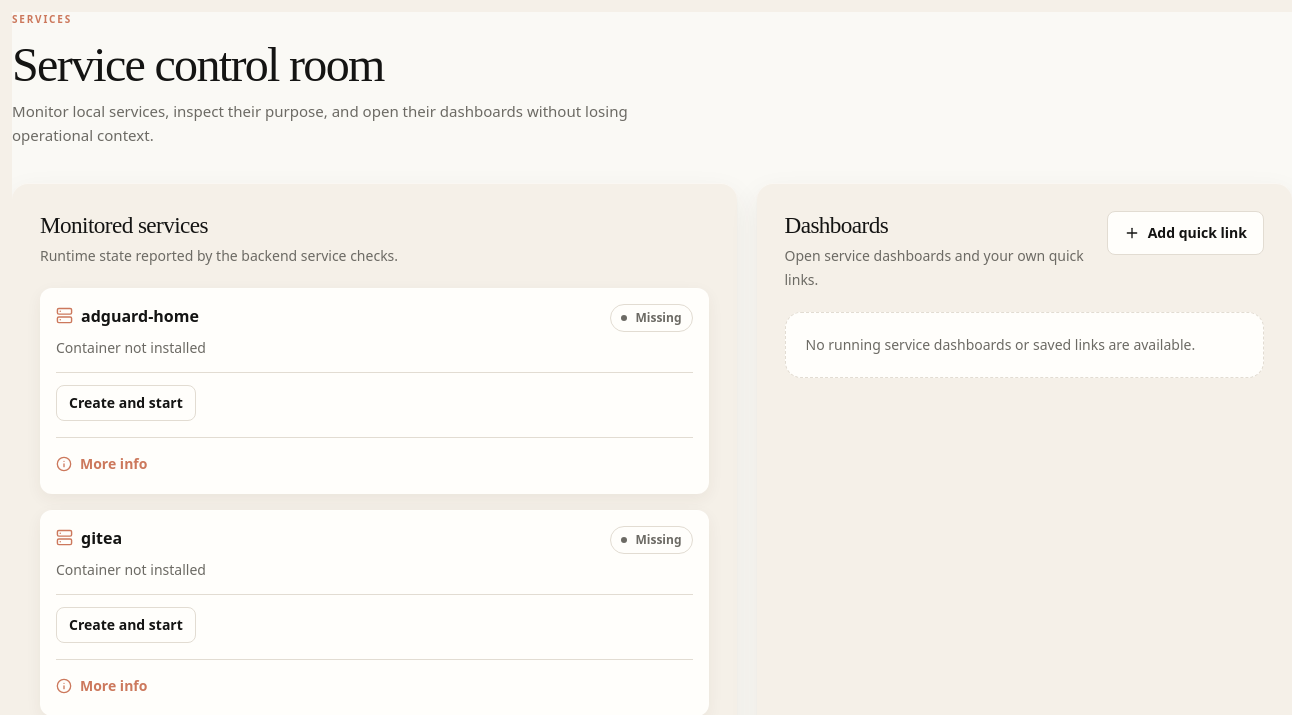
Test: Services page recovery › reuses the same operation ID after a lost submission response
Click the button "Create and start" below "adguard-home" at point(126, 403), box [56,385,196,421]
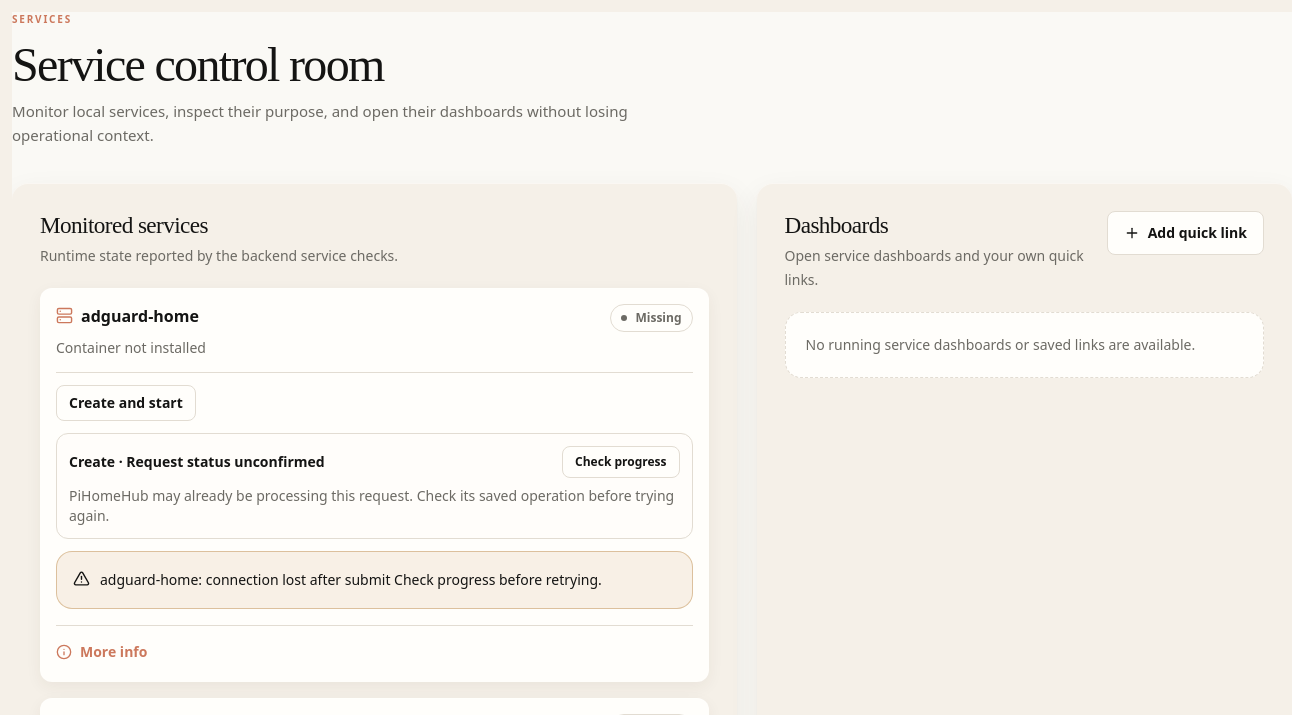
Click the button "Check progress" at point(621, 462), box [562,446,680,478]
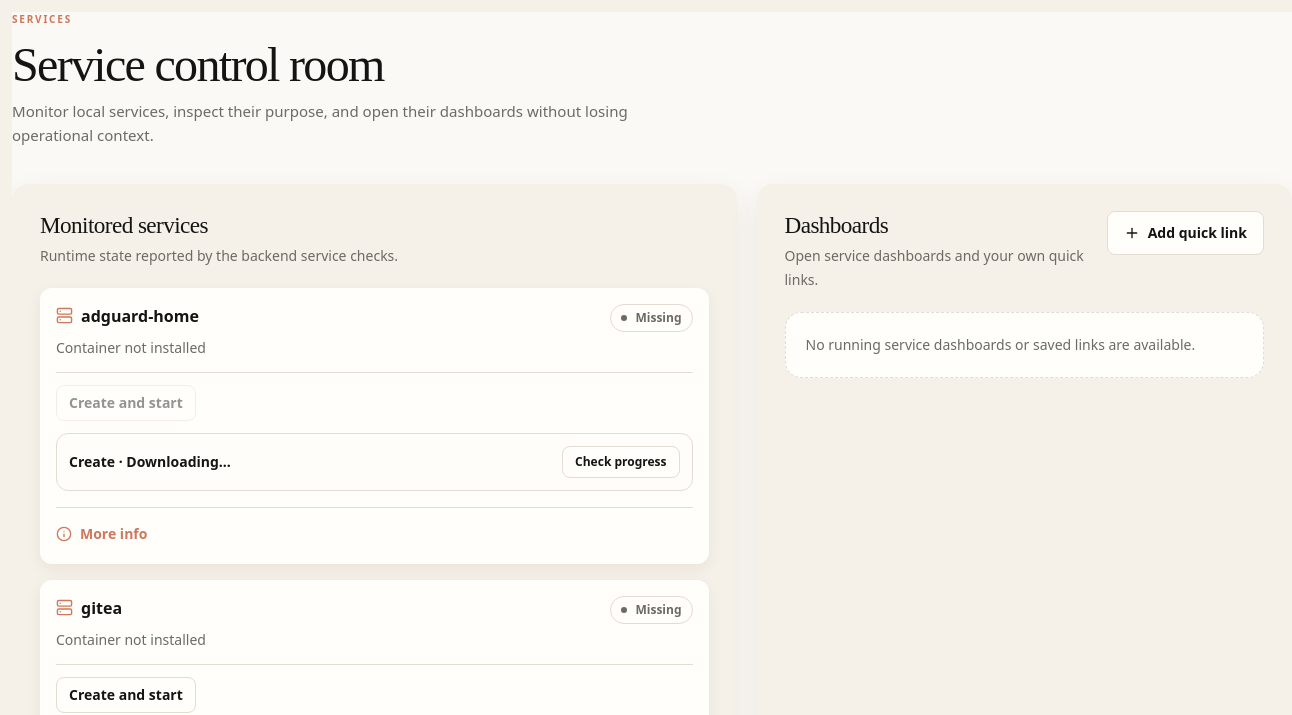
Expected: the text "Create · Downloading..." is shown, [69,452,231,472]
Expected: the text "connection lost after submit" is gone
